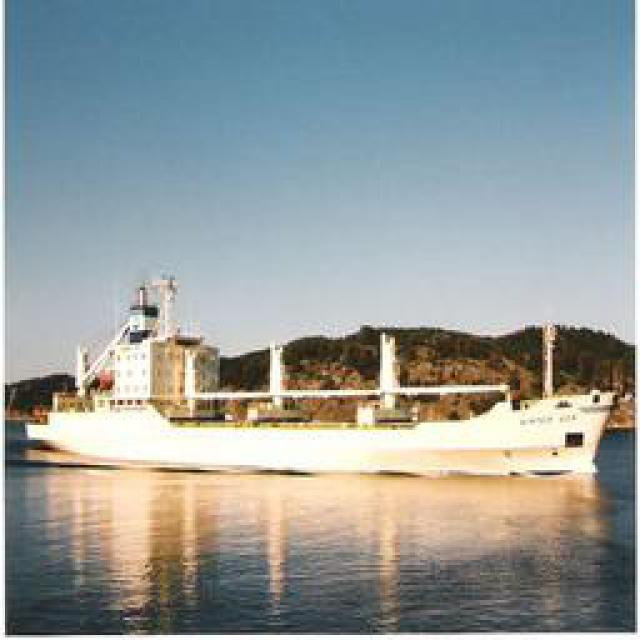Ship: (21, 391, 611, 479)
